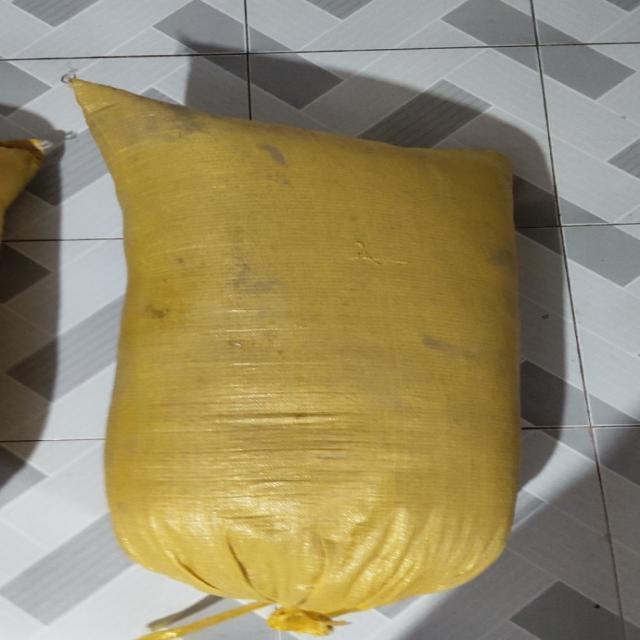gunny_bag: (69, 78, 519, 640)
